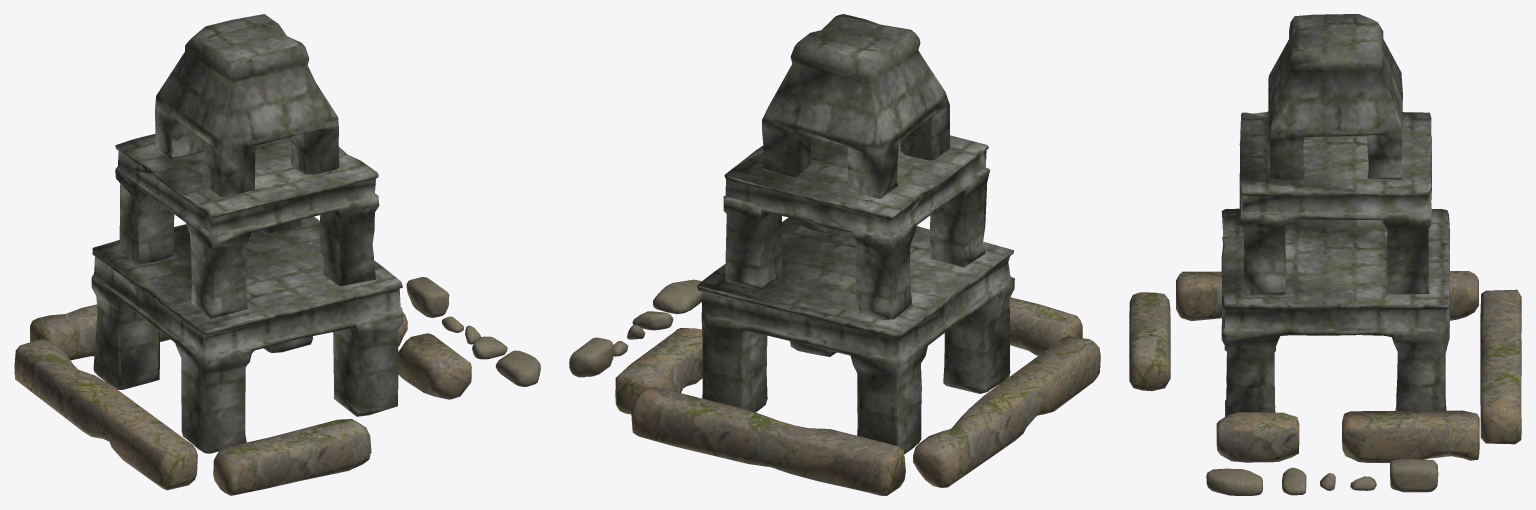
The model's file is ruined-temple-prop.lod0.glb.
3 views of the same model, side by side, from view 1: azimuth 30°, elevation 25°; view 2: azimuth 150°, elevation 25°; view 3: azimuth 270°, elevation 25° (orthographic). The views are drawn at different scales.
Parts seen in each view (by area): view 1: defaultMaterial (×3); view 2: defaultMaterial (×3); view 3: defaultMaterial (×3).
Part boxes in pixels (x1,y1,x2,y2): defaultMaterial (×3): (14,14,540,495); defaultMaterial (×3): (569,14,1100,495); defaultMaterial (×3): (1129,14,1521,495).
Size of the model in its own units: 8 by 6.79 by 6.85.
Materials: 3 (3 with a texture image).
